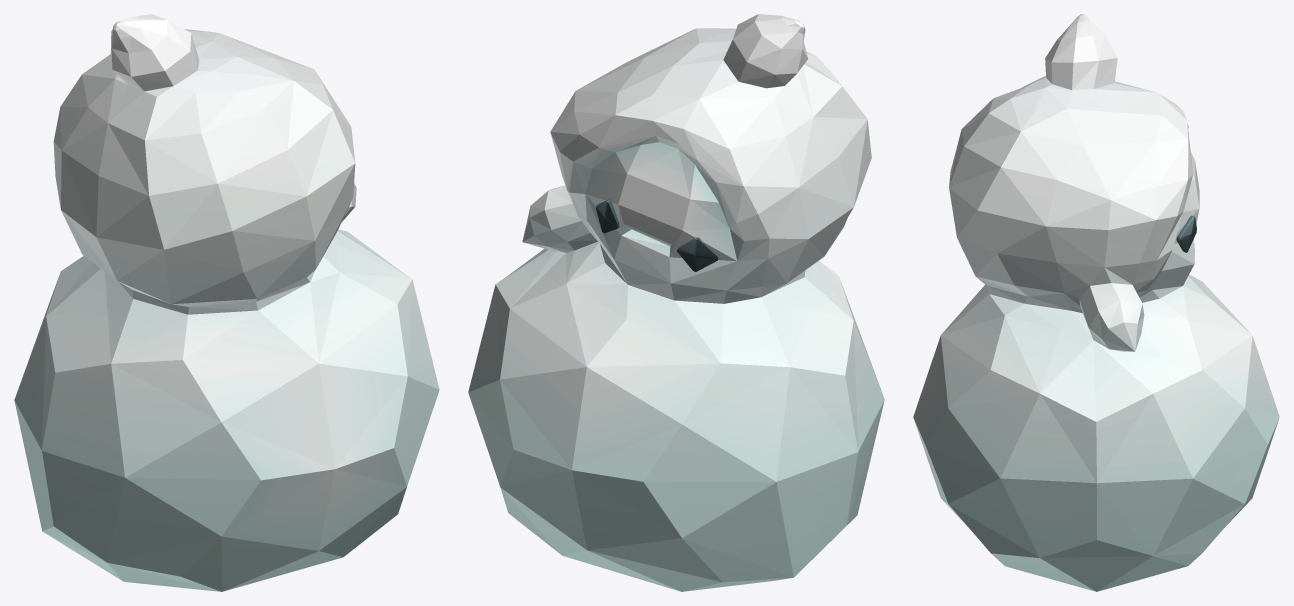
Rendered from CharSkyKid_Hat_FeastSnowman.glb.
3 renders of one model, left to right at view 1: azimuth 30°, elevation 25°; view 2: azimuth 150°, elevation 25°; view 3: azimuth 270°, elevation 25°, orthographic. The views are drawn at different scales.
Parts seen in each view (by area): view 1: CharSkyKid_Hat_FeastSnowman; view 2: CharSkyKid_Hat_FeastSnowman; view 3: CharSkyKid_Hat_FeastSnowman.
Boxes of the visible parts, x1,y1,x2,y2 form: CharSkyKid_Hat_FeastSnowman: (14, 14, 439, 591); CharSkyKid_Hat_FeastSnowman: (468, 14, 884, 591); CharSkyKid_Hat_FeastSnowman: (913, 14, 1279, 591).
Bounding box in the file's own units: 1.84 × 2.75 × 1.83.
1 material, 1 textured.
